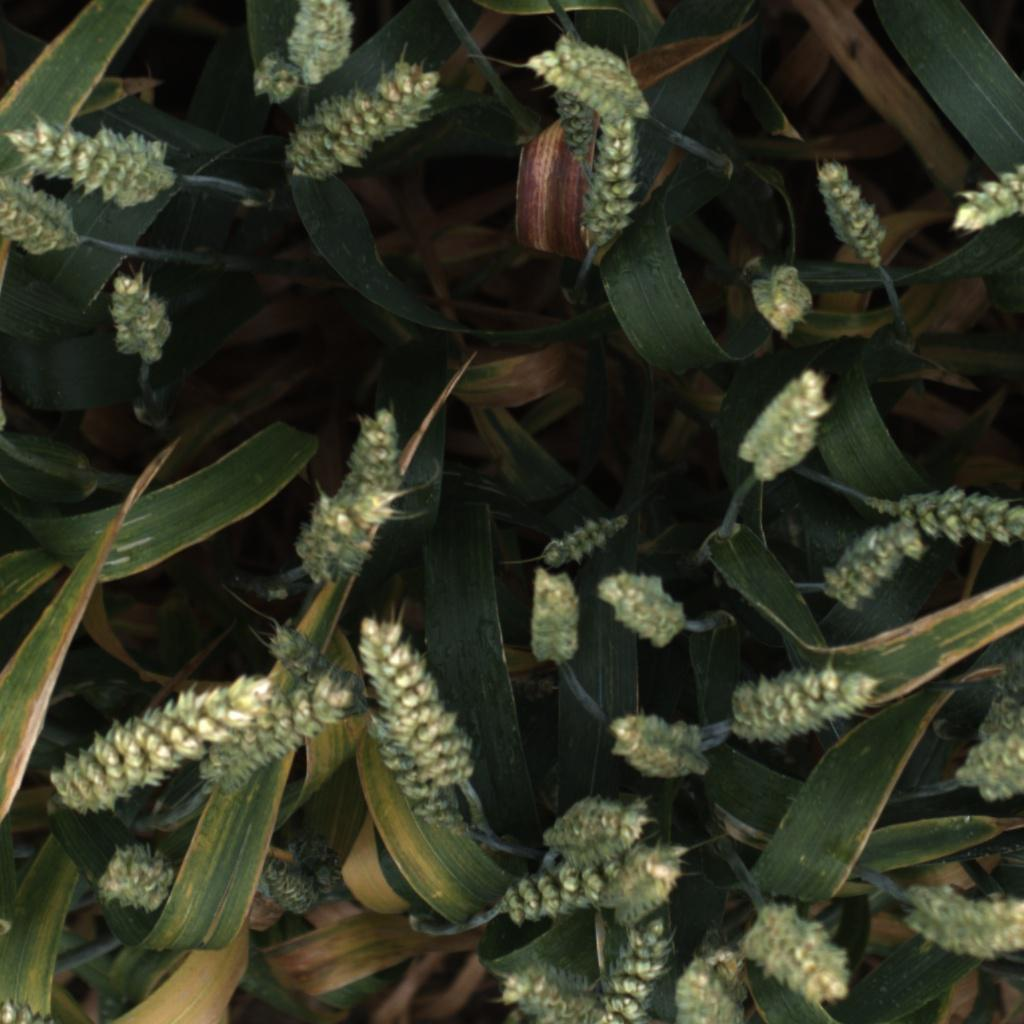0-0: (27, 671, 260, 816), (283, 61, 458, 194), (201, 661, 363, 797), (361, 617, 477, 789), (5, 102, 179, 210), (723, 660, 883, 749), (362, 713, 465, 842), (746, 885, 852, 1004), (953, 627, 1024, 804), (736, 365, 838, 485), (522, 32, 648, 124), (292, 489, 401, 592), (575, 920, 678, 1024), (903, 882, 1024, 966), (823, 514, 927, 611), (885, 479, 1024, 551), (578, 110, 647, 253), (811, 155, 891, 272), (498, 852, 611, 931), (541, 792, 661, 866), (104, 263, 177, 375), (334, 396, 412, 500), (601, 568, 695, 653), (609, 708, 710, 786), (610, 836, 698, 925), (251, 612, 350, 691), (0, 166, 79, 264), (492, 949, 592, 1024), (98, 832, 180, 922), (951, 134, 1024, 235), (288, 0, 366, 88), (286, 803, 353, 905), (674, 946, 757, 1024), (526, 565, 587, 671), (742, 255, 816, 339), (530, 510, 623, 573), (560, 46, 602, 162), (257, 850, 314, 923), (246, 47, 304, 109), (0, 991, 64, 1024)
